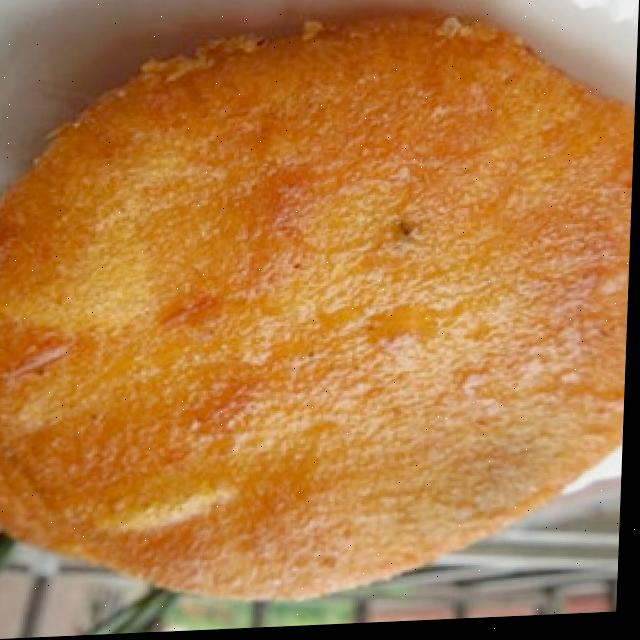炸货点心: (0, 1, 639, 608)
蛋糕甜品: (0, 1, 639, 608)
